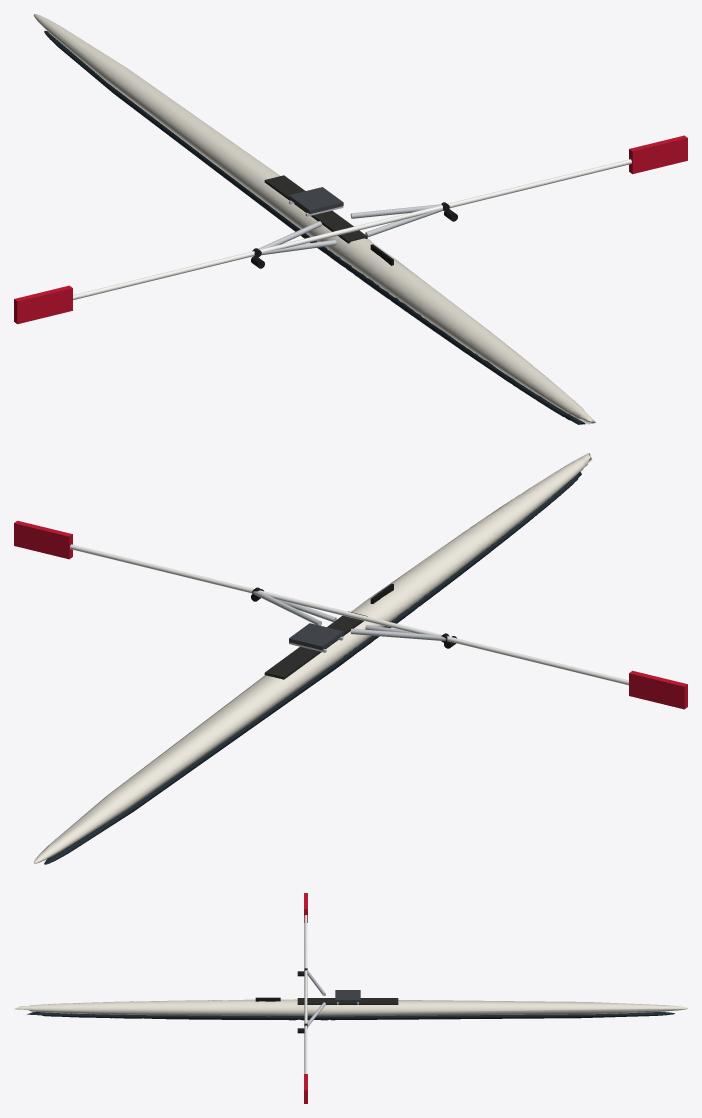
The model's file is scull.glb.
The picture shows the model from 3 angles, top to bottom: view 1: azimuth 30°, elevation 25°; view 2: azimuth 150°, elevation 25°; view 3: azimuth 270°, elevation 25°; orthographic projection. The views are drawn at different scales.
Parts seen in each view (by area): view 1: Hull, Hull_Underside, RightOar_Shaft, LeftOar_Shaft, LeftOar_Blade, RightOar_Blade, Cockpit, Seat_Pan; view 2: Hull, Hull_Underside, LeftOar_Shaft, RightOar_Shaft, LeftOar_Blade, RightOar_Blade, Cockpit, Seat_Pan; view 3: Hull, Hull_Underside, Cockpit, Seat_Pan.
Boxes of the visible parts, x1,y1,x2,y2 form: Hull: (33,14,595,424); Hull_Underside: (44,31,585,424); RightOar_Shaft: (341,159,631,233); LeftOar_Shaft: (73,225,361,300); LeftOar_Blade: (14,285,72,324); RightOar_Blade: (629,135,687,174); Cockpit: (264,175,367,243); Seat_Pan: (289,187,343,213); Hull: (34,453,592,863); Hull_Underside: (44,471,581,864); LeftOar_Shaft: (340,610,628,685); RightOar_Shaft: (70,544,360,618); LeftOar_Blade: (629,670,687,709); RightOar_Blade: (14,520,72,559); Cockpit: (264,611,367,679); Seat_Pan: (289,623,343,650); Hull: (14,999,687,1016); Hull_Underside: (27,1012,674,1020); Cockpit: (297,998,398,1004); Seat_Pan: (335,990,360,1002).
Bounding box in the file's own units: 5.56 × 0.3499 × 8.03.
